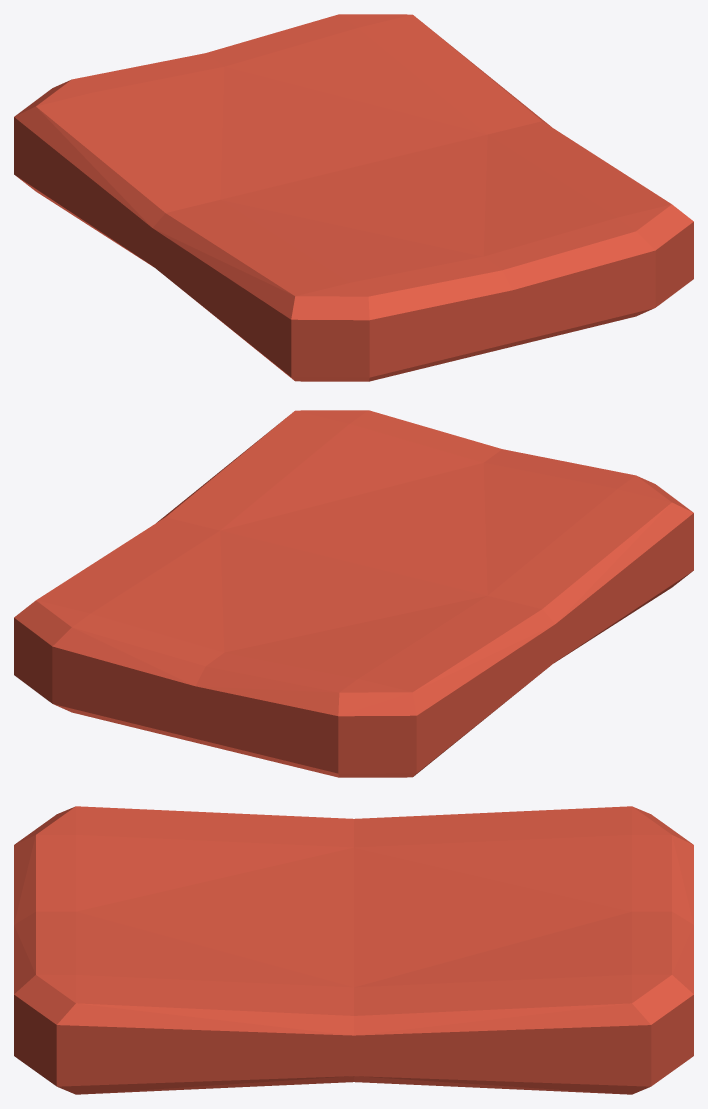
File: EA03_Prop_Pillow_01d.glb
The picture shows the model from 3 angles, top to bottom: view 1: azimuth 30°, elevation 25°; view 2: azimuth 150°, elevation 25°; view 3: azimuth 270°, elevation 25°; orthographic projection. The views are drawn at different scales.
Parts seen in each view (by area): view 1: EA03_Prop_Pillow_01d; view 2: EA03_Prop_Pillow_01d; view 3: EA03_Prop_Pillow_01d.
Boxes of the visible parts, box(x1,y1,x2,y2) form: EA03_Prop_Pillow_01d: box(14, 14, 693, 381); EA03_Prop_Pillow_01d: box(14, 410, 693, 777); EA03_Prop_Pillow_01d: box(14, 806, 693, 1094).
Bounding box in the file's own units: 0.6145 × 0.1242 × 0.8381.
Materials: 1 (1 with a texture image).
